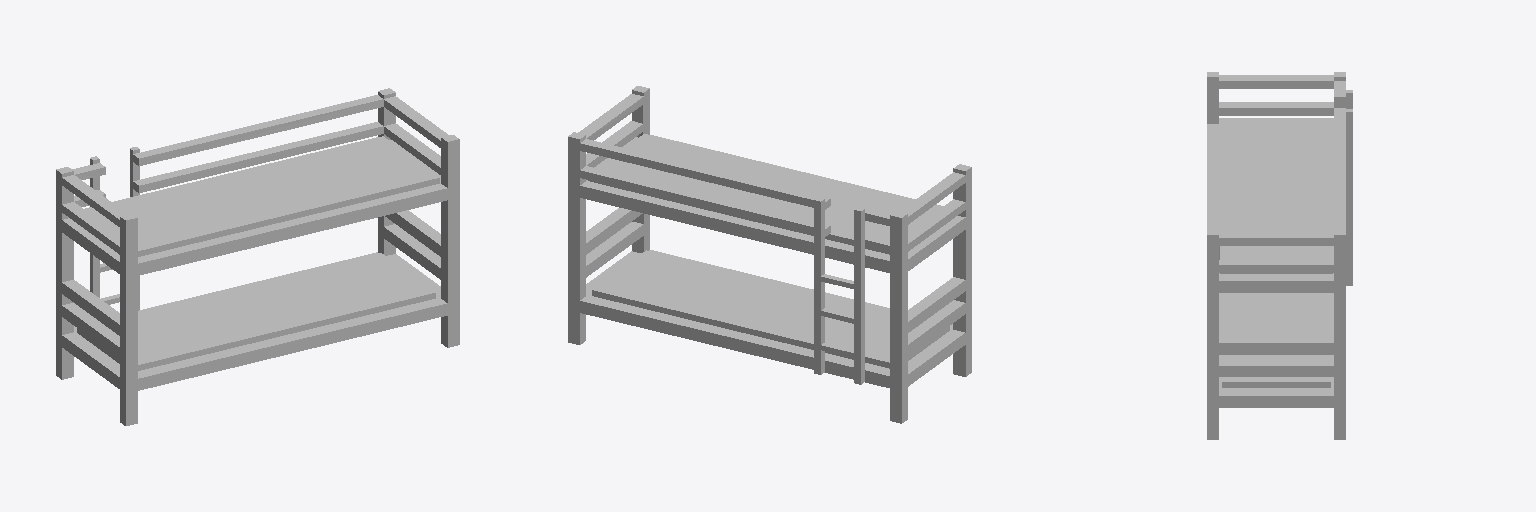
The model's file is LozkoP.obj.
The picture shows the model from 3 angles: view 1: azimuth 30°, elevation 25°; view 2: azimuth 150°, elevation 25°; view 3: azimuth 270°, elevation 25°; orthographic projection.
Parts seen in each view (by area): view 1: Łóżko_p_Cube.003; view 2: Łóżko_p_Cube.003; view 3: Łóżko_p_Cube.003.
Boxes of the visible parts, x1=… form: Łóżko_p_Cube.003: x1=56, y1=88, x2=459, y2=425; Łóżko_p_Cube.003: x1=568, y1=86, x2=971, y2=423; Łóżko_p_Cube.003: x1=1207, y1=72, x2=1352, y2=439.
Bounding box in the file's own units: 6.31 × 3.72 × 2.4.